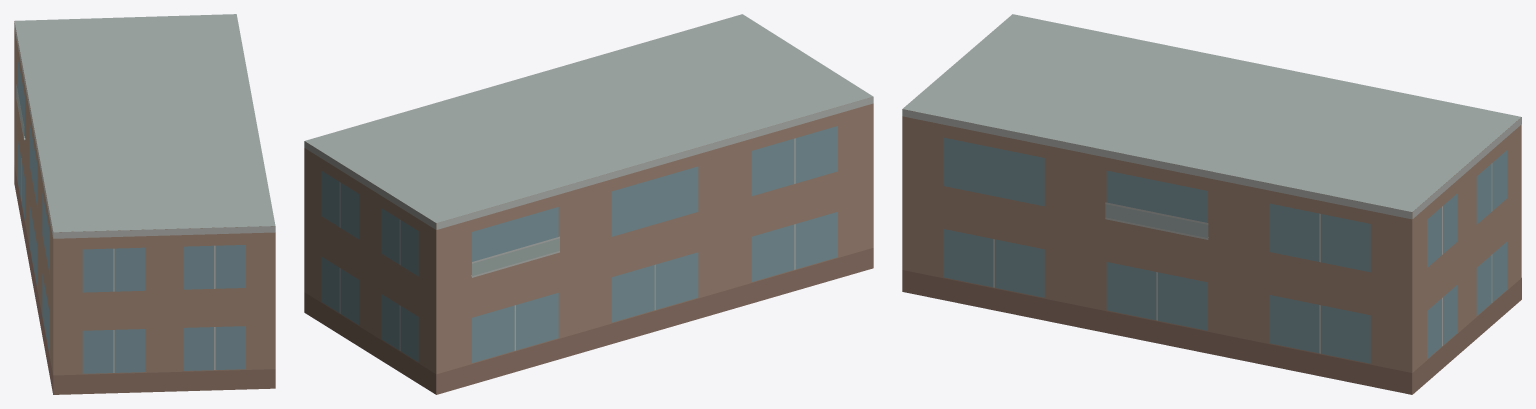
File: survey-upis-32697215.glb
3 views of the same model, side by side, from view 1: azimuth 30°, elevation 25°; view 2: azimuth 150°, elevation 25°; view 3: azimuth 270°, elevation 25° (orthographic). The views are drawn at different scales.
Parts seen in each view (by area): view 1: survey-upis-32697215.tmp; view 2: survey-upis-32697215.tmp; view 3: survey-upis-32697215.tmp.
Part boxes in pixels (x1,y1,x2,y2): survey-upis-32697215.tmp: [14, 14, 275, 394]; survey-upis-32697215.tmp: [304, 14, 873, 394]; survey-upis-32697215.tmp: [902, 14, 1521, 394].
Size of the model in its own units: 14.19 by 6.1 by 18.75.
